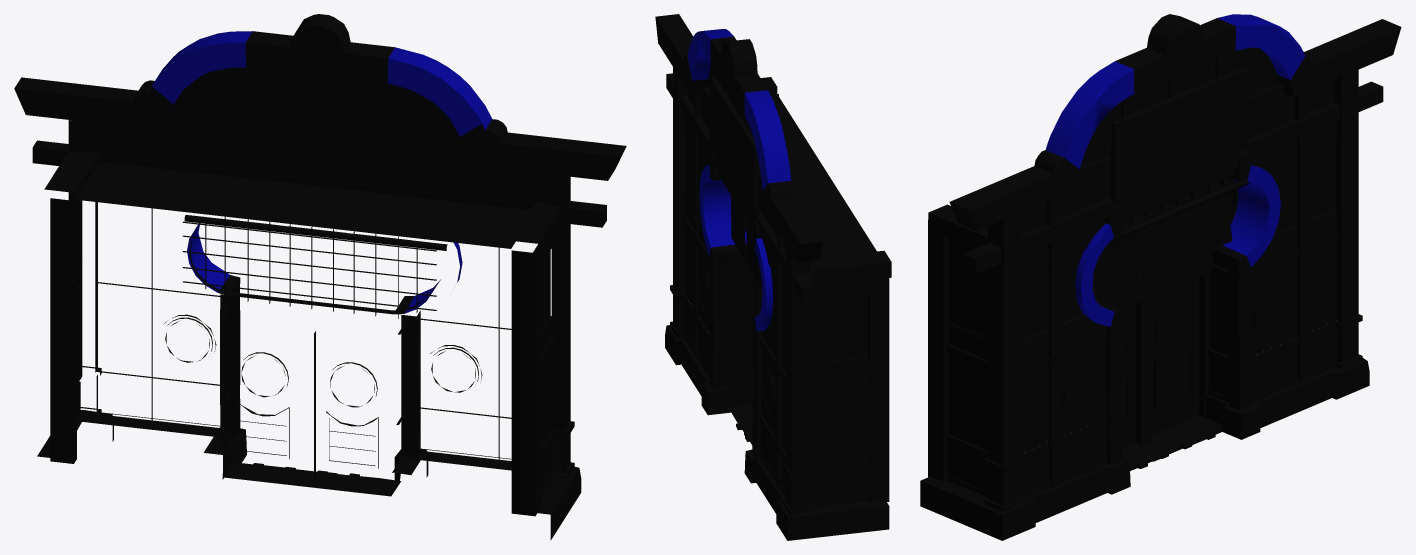
Rendered from SM_ENV_LKNVLD_Shop_Front_Lod2.gltf.
3 renders of one model, left to right at view 1: azimuth 30°, elevation 25°; view 2: azimuth 150°, elevation 25°; view 3: azimuth 270°, elevation 25°, orthographic. The views are drawn at different scales.
Visible parts, largest first — view 1: SM_ENV_LKNVLD_Shop_Front_Lod2; view 2: SM_ENV_LKNVLD_Shop_Front_Lod2; view 3: SM_ENV_LKNVLD_Shop_Front_Lod2.
Part boxes in pixels (x1,y1,x2,y2): SM_ENV_LKNVLD_Shop_Front_Lod2: (14,14,626,540); SM_ENV_LKNVLD_Shop_Front_Lod2: (655,14,891,540); SM_ENV_LKNVLD_Shop_Front_Lod2: (920,14,1401,540).
Bounding box in the file's own units: 8.9 × 8.98 × 8.9.
